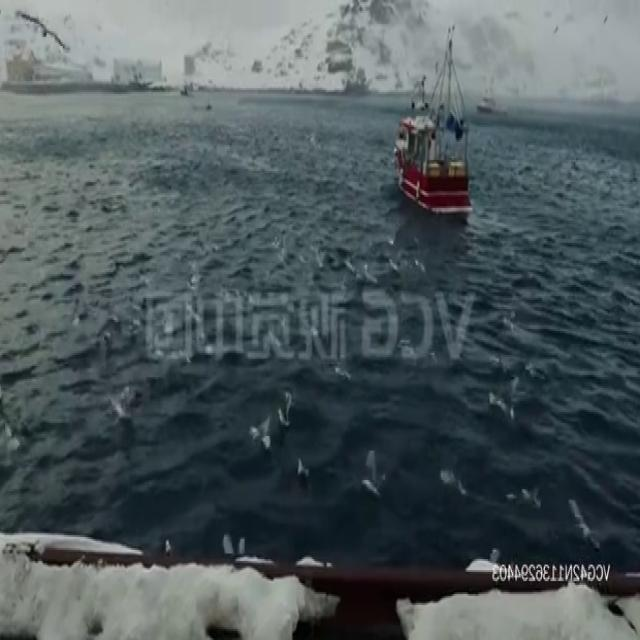fishing boat: (393, 25, 476, 210)
